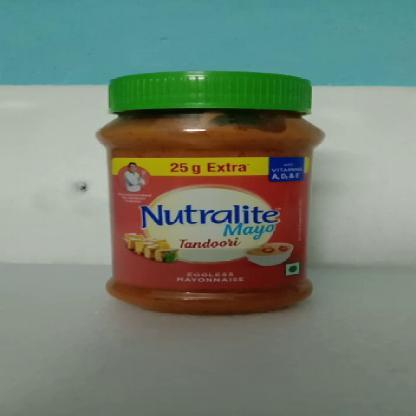Nutralite TANDOORI MAYO 300g-275g-25g-: (98, 70, 323, 317)
